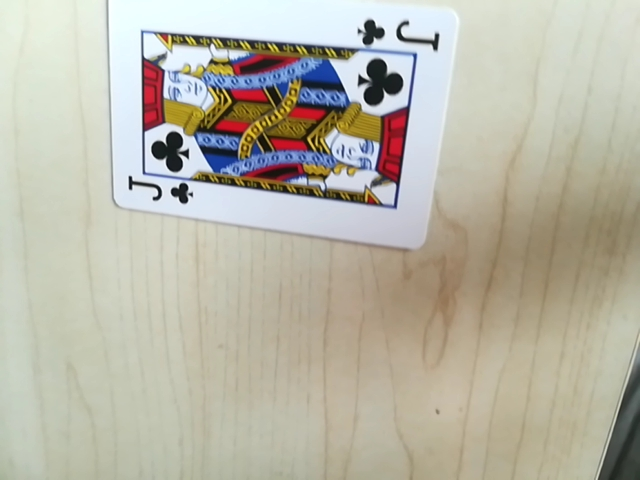mh j: (357, 12, 444, 48), (121, 176, 192, 211)
